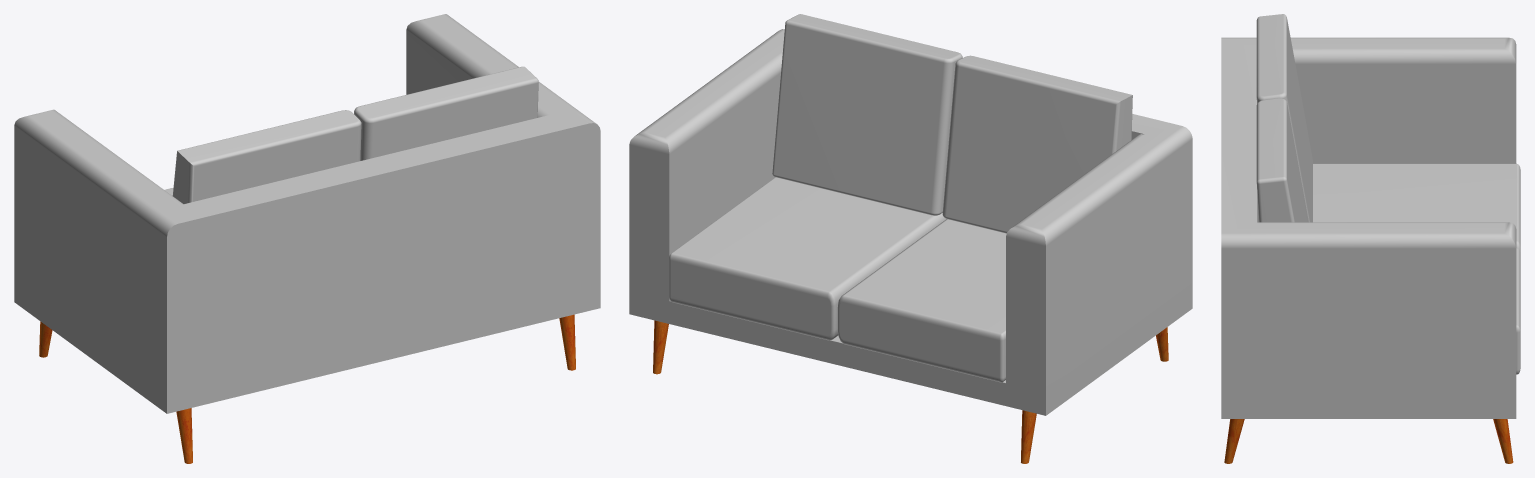
Rendered from Leather Couch FBX.fbx.
3 renders of one model, left to right at view 1: azimuth 30°, elevation 25°; view 2: azimuth 150°, elevation 25°; view 3: azimuth 270°, elevation 25°, orthographic. The views are drawn at different scales.
Visible parts, largest first — view 1: pCube3, pCube7, polySurface2; view 2: pCube3, pCube7, pCube6, polySurface2; view 3: pCube3, pCube6, pCube7, polySurface2.
Part boxes in pixels (x1=…): pCube3: x1=14, y1=14, x2=600, y2=413; pCube7: x1=172, y1=66, x2=538, y2=203; polySurface2: x1=39, y1=314, x2=575, y2=463; pCube3: x1=629, y1=29, x2=1192, y2=415; pCube7: x1=772, y1=14, x2=1132, y2=233; pCube6: x1=669, y1=177, x2=1006, y2=382; polySurface2: x1=653, y1=320, x2=1168, y2=463; pCube3: x1=1221, y1=37, x2=1516, y2=418; pCube6: x1=1313, y1=163, x2=1520, y2=374; pCube7: x1=1256, y1=14, x2=1312, y2=222; polySurface2: x1=1224, y1=419, x2=1513, y2=463.
Bounding box in the file's own units: 24 × 15.12 × 14.85.
